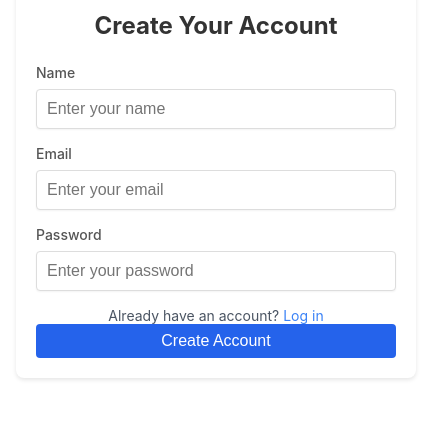
SignupForm Component › shows validation error for invalid email
This screenshot has width=433, height=440.
Note: Fill in form with invalid email
Type "Test User" into the field labelled "Name" at (216, 109), box x1=36 y1=89 x2=396 y2=129
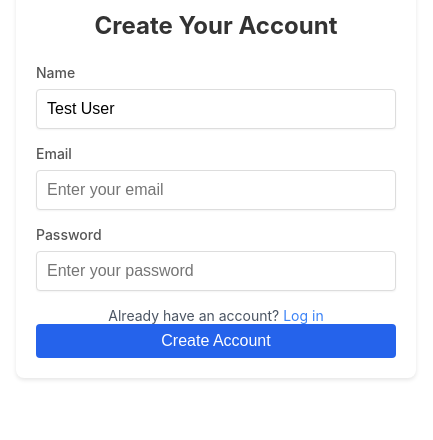
Type "invalid-email" into the field labelled "Email" at (216, 190), box x1=36 y1=170 x2=396 y2=210
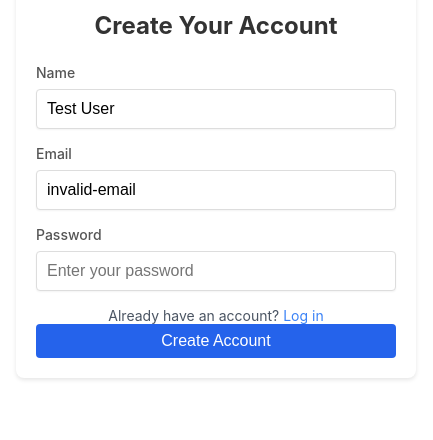
Type "password123" into the password field labelled "Password" at (216, 271), box x1=36 y1=251 x2=396 y2=291
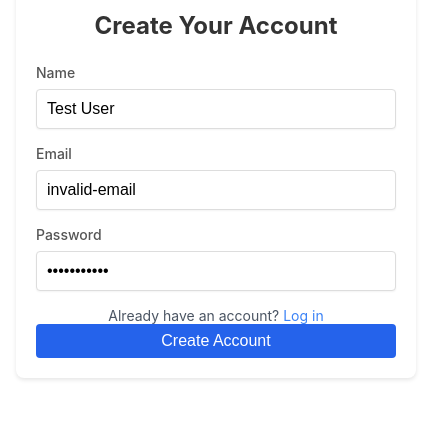
Note: Submit form
Click the button "Create Account" at (216, 341), box x1=36 y1=324 x2=396 y2=358
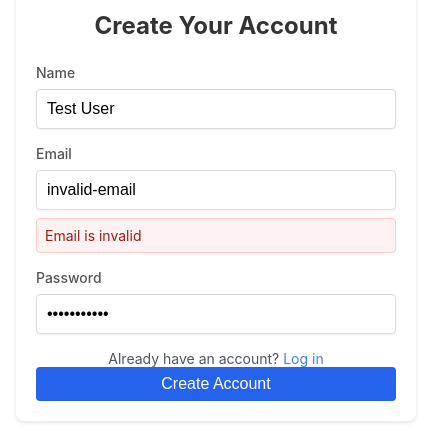
Expected: the text "Email is invalid" is shown, x1=36 y1=218 x2=396 y2=253
